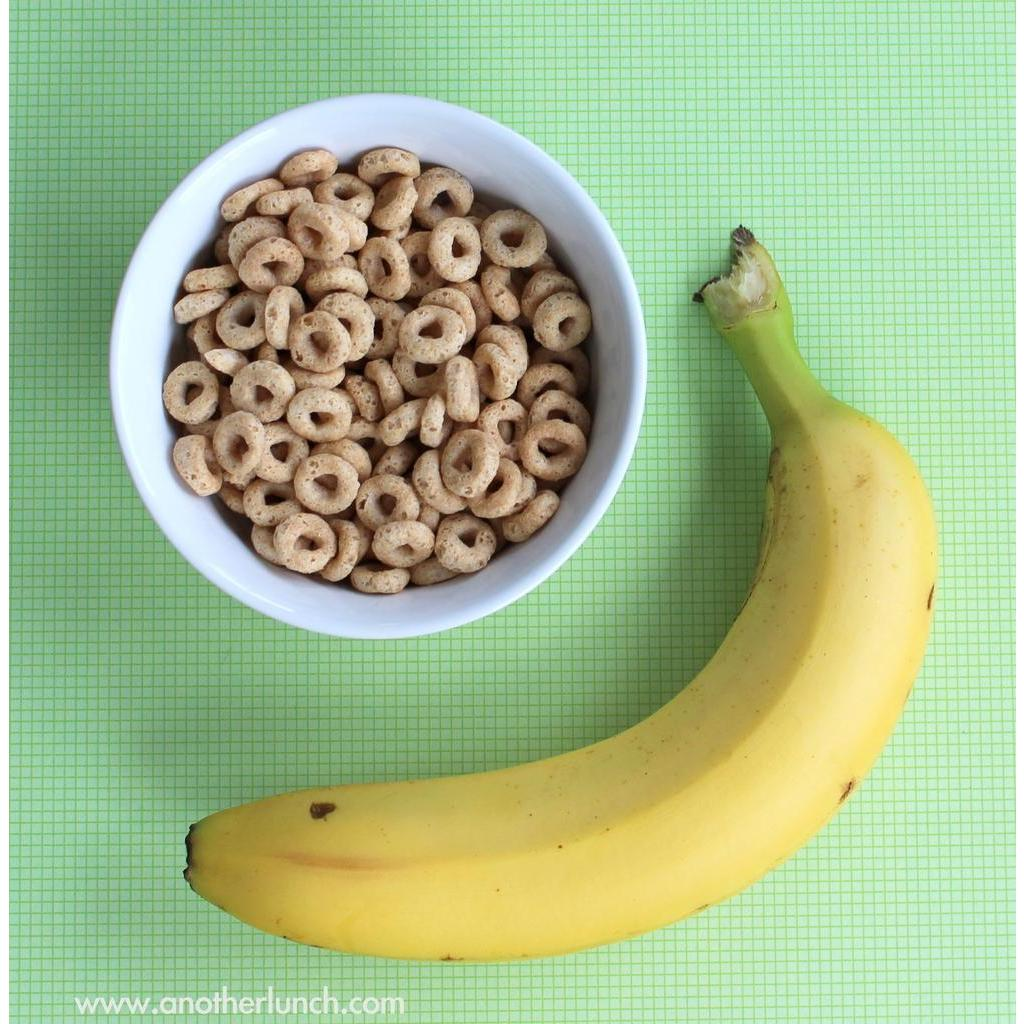banana: (182, 228, 939, 966)
